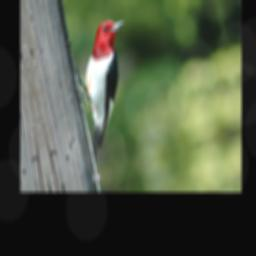Woodpecker: (61, 15, 148, 170)
